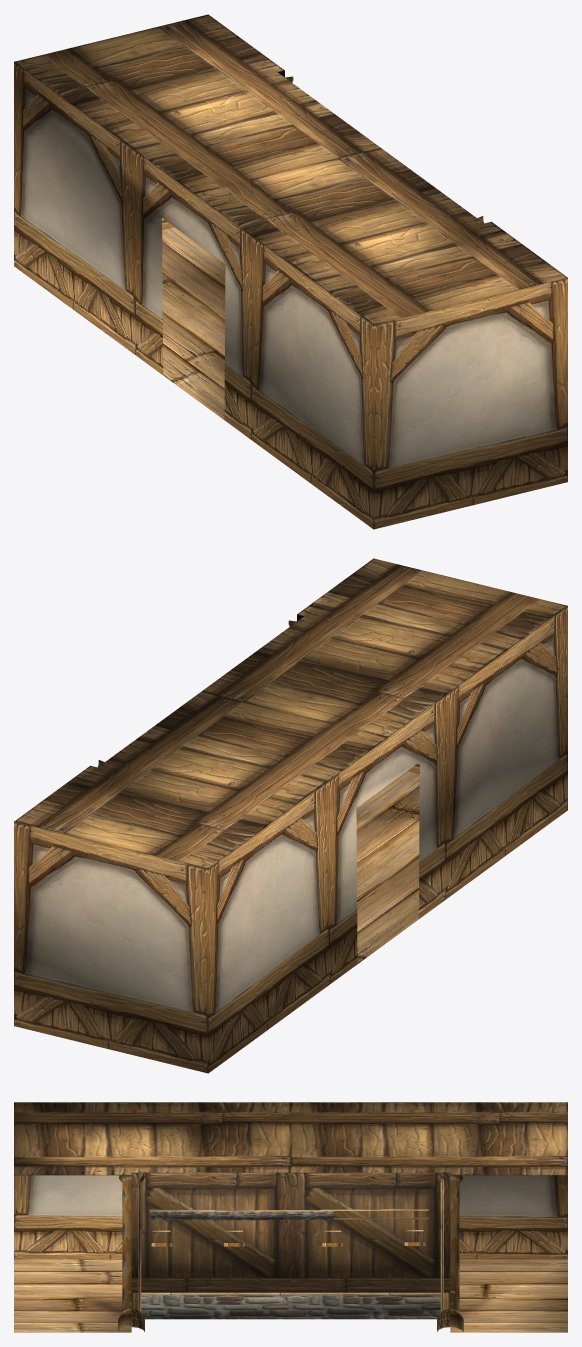
File: stormwind_215.fbx
3 renders of one model, top to bottom at view 1: azimuth 30°, elevation 25°; view 2: azimuth 150°, elevation 25°; view 3: azimuth 270°, elevation 25°, orthographic. The views are drawn at different scales.
Parts seen in each view (by area): view 1: stormwind_215_48, stormwind_215_55, stormwind_215_51; view 2: stormwind_215_48, stormwind_215_55, stormwind_215_51; view 3: stormwind_215_55, stormwind_215_56, stormwind_215_48, stormwind_215_51, stormwind_215_38, stormwind_215_53, stormwind_215_54, stormwind_215_49.
Part boxes in pixels (bbox=[...]): stormwind_215_48: bbox=[14, 62, 567, 529]; stormwind_215_55: bbox=[14, 14, 567, 324]; stormwind_215_51: bbox=[162, 227, 225, 419]; stormwind_215_48: bbox=[14, 606, 567, 1073]; stormwind_215_55: bbox=[14, 558, 567, 868]; stormwind_215_51: bbox=[356, 771, 419, 963]; stormwind_215_55: bbox=[14, 1102, 567, 1175]; stormwind_215_56: bbox=[131, 1172, 450, 1292]; stormwind_215_48: bbox=[14, 1175, 567, 1259]; stormwind_215_51: bbox=[14, 1259, 567, 1332]; stormwind_215_38: bbox=[141, 1211, 440, 1319]; stormwind_215_53: bbox=[118, 1173, 463, 1332]; stormwind_215_54: bbox=[149, 1209, 428, 1231]; stormwind_215_49: bbox=[131, 1173, 450, 1331].
Bounding box in the file's own units: 5.92 × 5.95 × 18.96.
